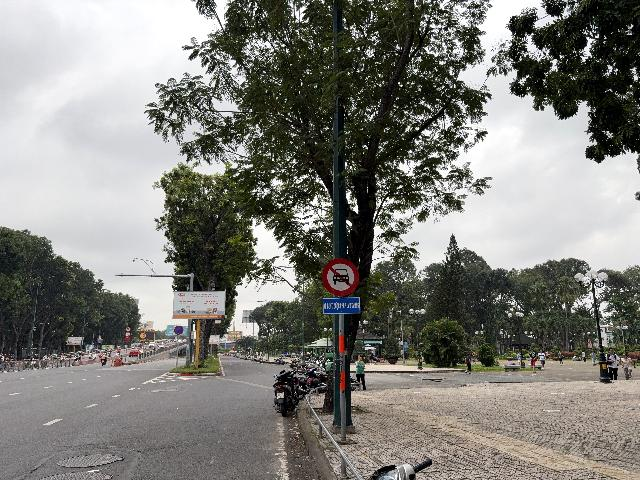cam-o-to: (322, 258, 359, 296)
